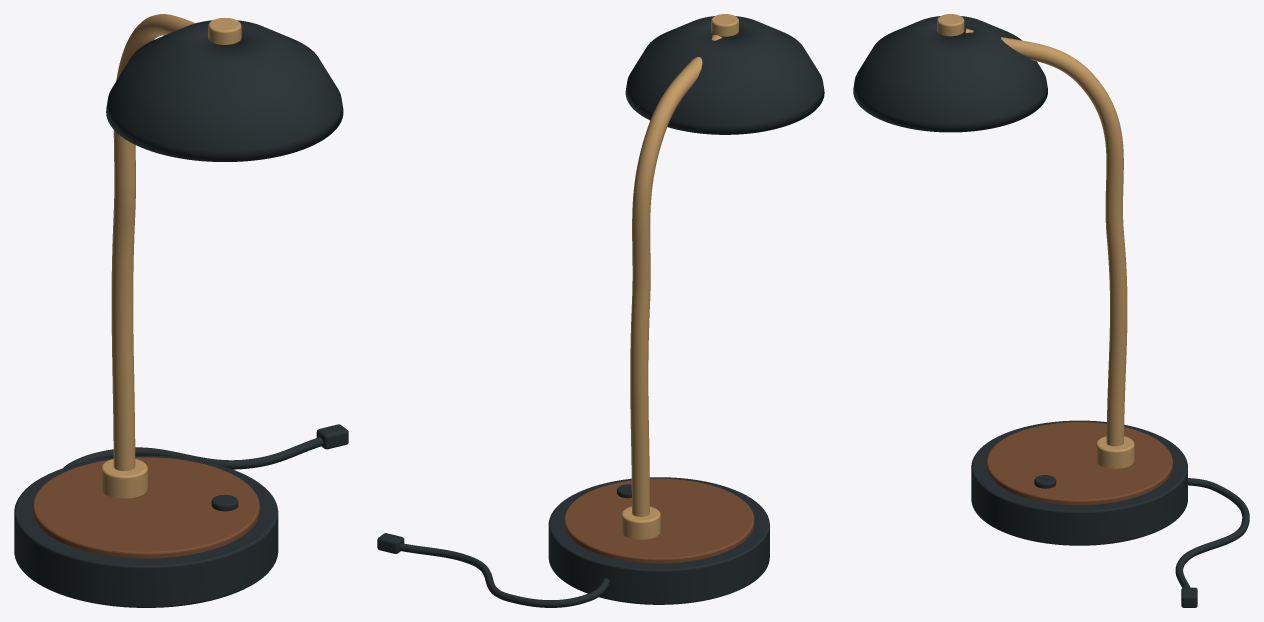
Rendered from arc-lamp.glb.
3 renders of one model, left to right at view 1: azimuth 30°, elevation 25°; view 2: azimuth 150°, elevation 25°; view 3: azimuth 270°, elevation 25°, orthographic. The views are drawn at different scales.
Visible parts, largest first — view 1: Hollow spun metal shade, Inset wood top, Weighted round base, Sweeping brass neck, Fabric power lead, Stem foot, Top brass collar, Cable end; view 2: Hollow spun metal shade, Inset wood top, Weighted round base, Sweeping brass neck, Fabric power lead, Stem foot; view 3: Hollow spun metal shade, Inset wood top, Weighted round base, Sweeping brass neck, Fabric power lead, Stem foot, Top brass collar.
Boxes of the visible parts, x1,y1,x2,y2 form: Hollow spun metal shade: (106, 20, 343, 161); Inset wood top: (32, 457, 259, 558); Weighted round base: (14, 455, 278, 607); Sweeping brass neck: (111, 14, 194, 470); Fabric power lead: (63, 437, 322, 469); Stem foot: (101, 459, 147, 498); Top brass collar: (208, 18, 241, 44); Cable end: (316, 424, 348, 449); Hollow spun metal shade: (625, 16, 824, 134); Inset wood top: (564, 478, 754, 563); Weighted round base: (548, 477, 769, 604); Sweeping brass neck: (630, 35, 722, 516); Fabric power lead: (399, 543, 609, 607); Stem foot: (621, 506, 660, 539); Hollow spun metal shade: (853, 16, 1047, 132); Inset wood top: (986, 422, 1172, 505); Weighted round base: (971, 420, 1187, 545); Sweeping brass neck: (965, 28, 1127, 446); Fabric power lead: (1175, 478, 1249, 587); Stem foot: (1096, 436, 1134, 468); Top brass collar: (937, 14, 964, 36).
Size of the model in its own units: 2.63 by 3.88 by 2.89.
